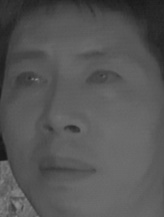eye: (82, 65, 122, 93), (11, 67, 49, 94)
mouth: (36, 149, 95, 189)
